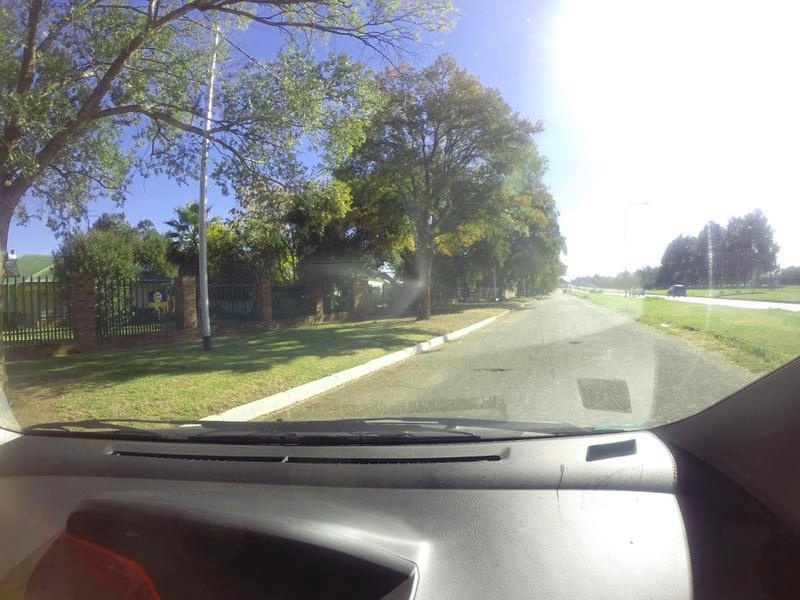pothole: (480, 359, 516, 378), (568, 335, 587, 348)
